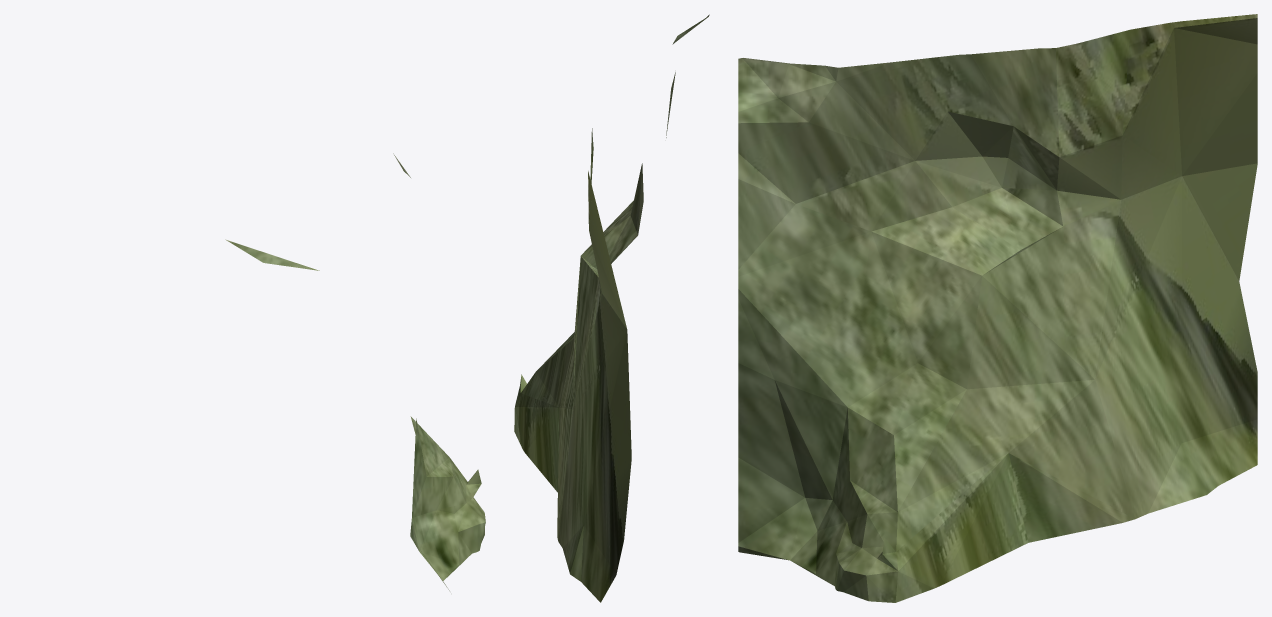
3 views of the same model, side by side, from view 1: azimuth 30°, elevation 25°; view 2: azimuth 150°, elevation 25°; view 3: azimuth 270°, elevation 25° (orthographic). The views are drawn at different scales.
Bounding box in the file's own units: 2.03 × 2.95 × 2.95.
Materials: 3 (3 with a texture image).
